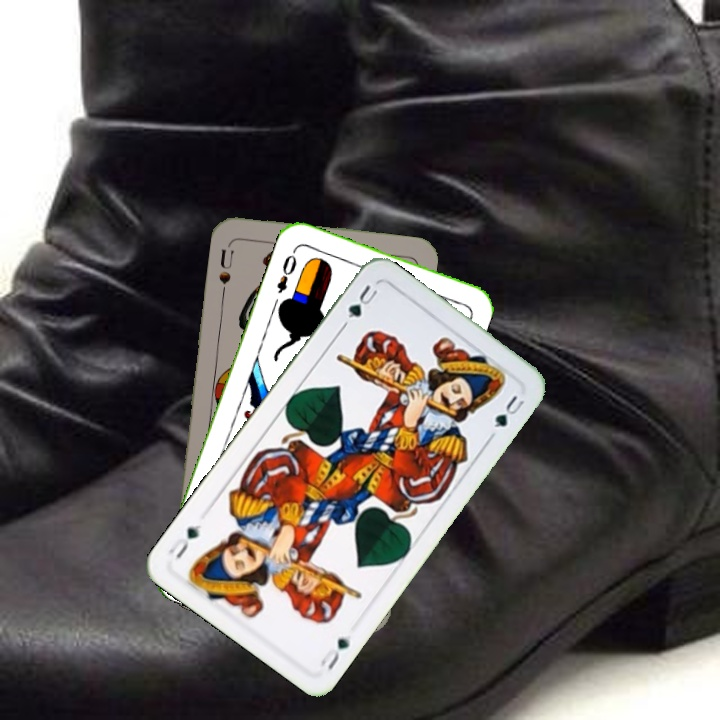EO: (272, 250, 300, 296)
GU: (343, 280, 381, 322), (315, 633, 353, 674)
SU: (215, 245, 236, 287)
